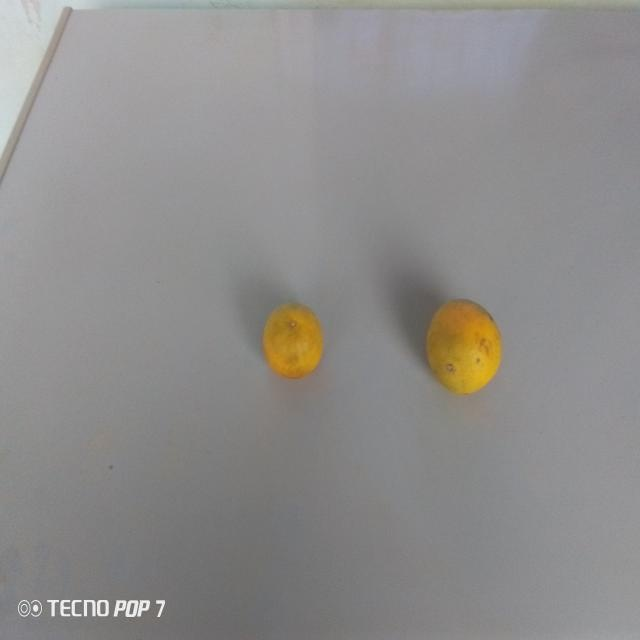agrume: (417, 292, 515, 411), (259, 296, 327, 381)
